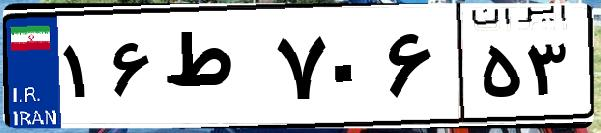0: (330, 28, 385, 110)
1: (57, 26, 110, 100)
3: (525, 38, 570, 115)
5: (475, 38, 525, 113)
6: (385, 28, 445, 110), (110, 28, 158, 98)
7: (270, 28, 330, 110)
ط: (158, 20, 270, 120)
